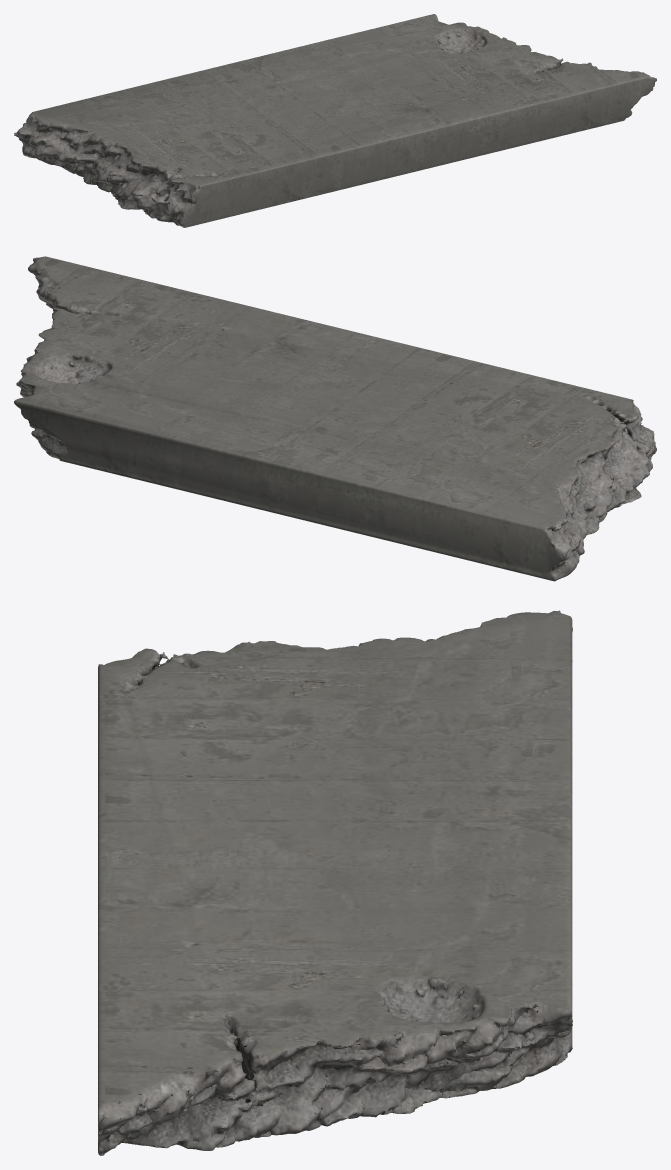
Rendered from concrete_slab_plain.glb.
3 views of the same model, one above another, from view 1: azimuth 30°, elevation 25°; view 2: azimuth 150°, elevation 25°; view 3: azimuth 270°, elevation 25° (orthographic). The views are drawn at different scales.
Parts seen in each view (by area): view 1: concrete_slab_plain; view 2: concrete_slab_plain; view 3: concrete_slab_plain.
Part boxes in pixels (<box>): concrete_slab_plain: <box>14,14,656,227</box>; concrete_slab_plain: <box>14,256,656,581</box>; concrete_slab_plain: <box>98,610,572,1155</box>.
Size of the model in its own units: 2.81 by 0.2051 by 1.1.
Materials: 1 (1 with a texture image).
